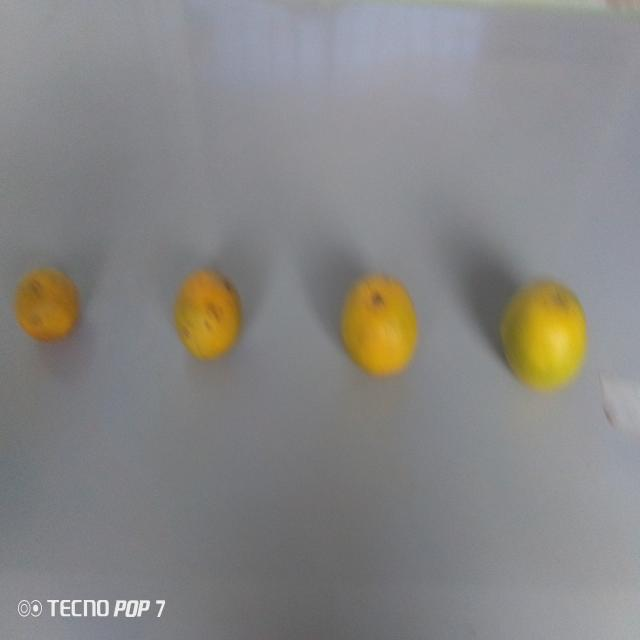Ripe orange: (339, 267, 426, 388), (497, 280, 587, 392), (171, 258, 248, 368), (11, 254, 86, 356)
